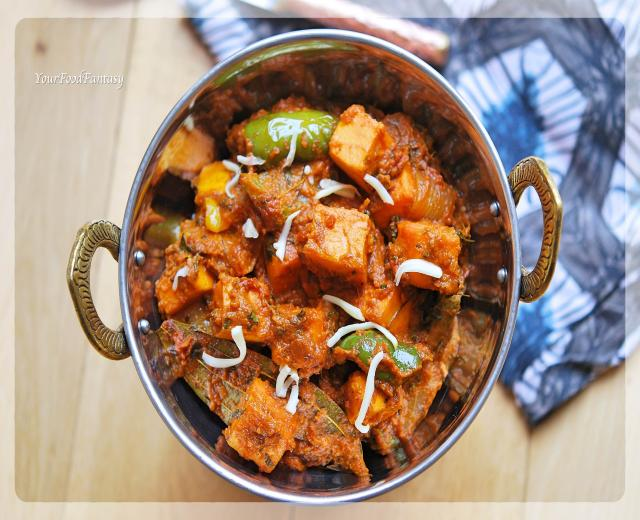kadai paneer: (115, 30, 545, 506)
